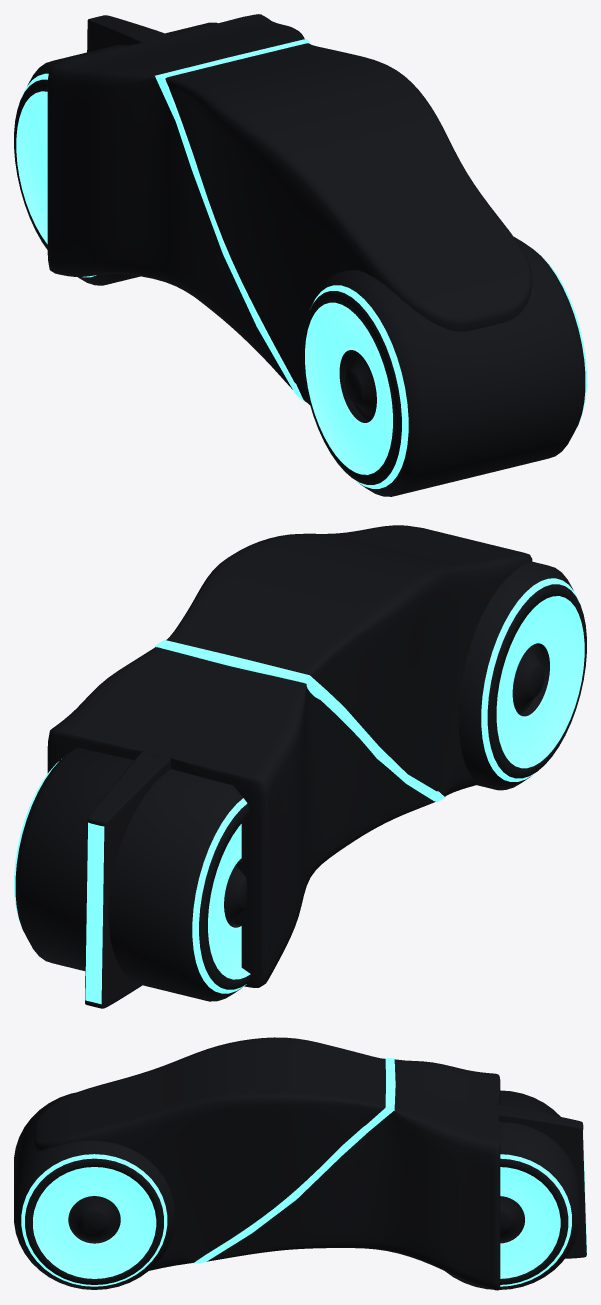
The model's file is moto01.fbx.
The picture shows the model from 3 angles, top to bottom: view 1: azimuth 30°, elevation 25°; view 2: azimuth 150°, elevation 25°; view 3: azimuth 270°, elevation 25°; orthographic projection. The views are drawn at different scales.
Parts seen in each view (by area): view 1: Corpo.001, Rodas.001, Detalhe01.001, Cauda.001; view 2: Corpo.001, Rodas.001, Cauda.001, Detalhe01.001; view 3: Corpo.001, Rodas.001, Cauda.001, Detalhe01.001.
Part boxes in pixels (bbox=[...]): Corpo.001: bbox=[47, 14, 532, 404]; Rodas.001: bbox=[14, 22, 586, 496]; Detalhe01.001: bbox=[155, 39, 310, 401]; Cauda.001: bbox=[87, 15, 169, 52]; Corpo.001: bbox=[47, 525, 532, 987]; Rodas.001: bbox=[14, 561, 586, 1001]; Cauda.001: bbox=[85, 751, 170, 1008]; Detalhe01.001: bbox=[155, 640, 445, 801]; Corpo.001: bbox=[34, 1037, 500, 1290]; Rodas.001: bbox=[14, 1090, 579, 1289]; Cauda.001: bbox=[498, 1105, 586, 1258]; Detalhe01.001: bbox=[192, 1058, 395, 1263].
Bounding box in the file's own units: 112 × 138 × 362.
